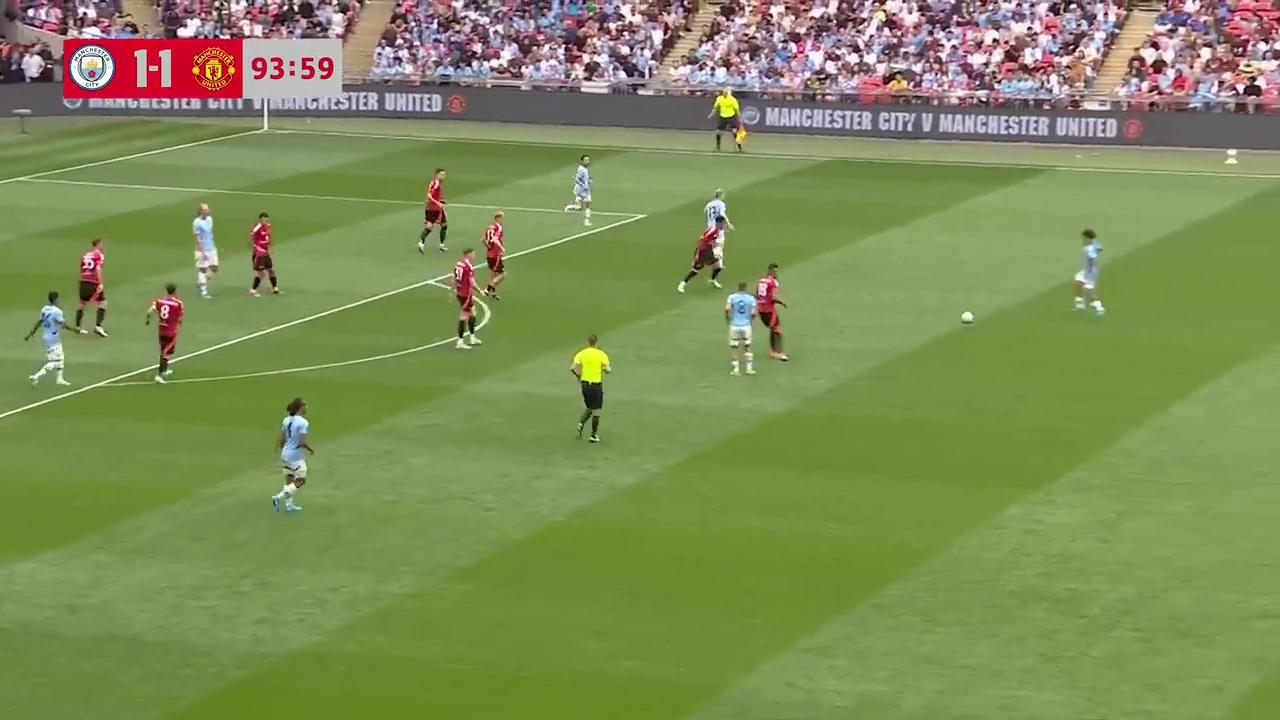ball: (960, 308, 974, 323)
player: (272, 398, 314, 512), (23, 293, 71, 387), (144, 283, 184, 383), (690, 190, 734, 275), (448, 250, 485, 350), (754, 262, 789, 361), (723, 283, 758, 377), (677, 224, 723, 291), (76, 238, 107, 337), (247, 211, 282, 298), (1072, 228, 1106, 317), (191, 204, 219, 299), (700, 190, 734, 266), (417, 172, 447, 254), (481, 211, 506, 297), (565, 154, 594, 224)
referee: (569, 334, 611, 443), (709, 87, 748, 151)
